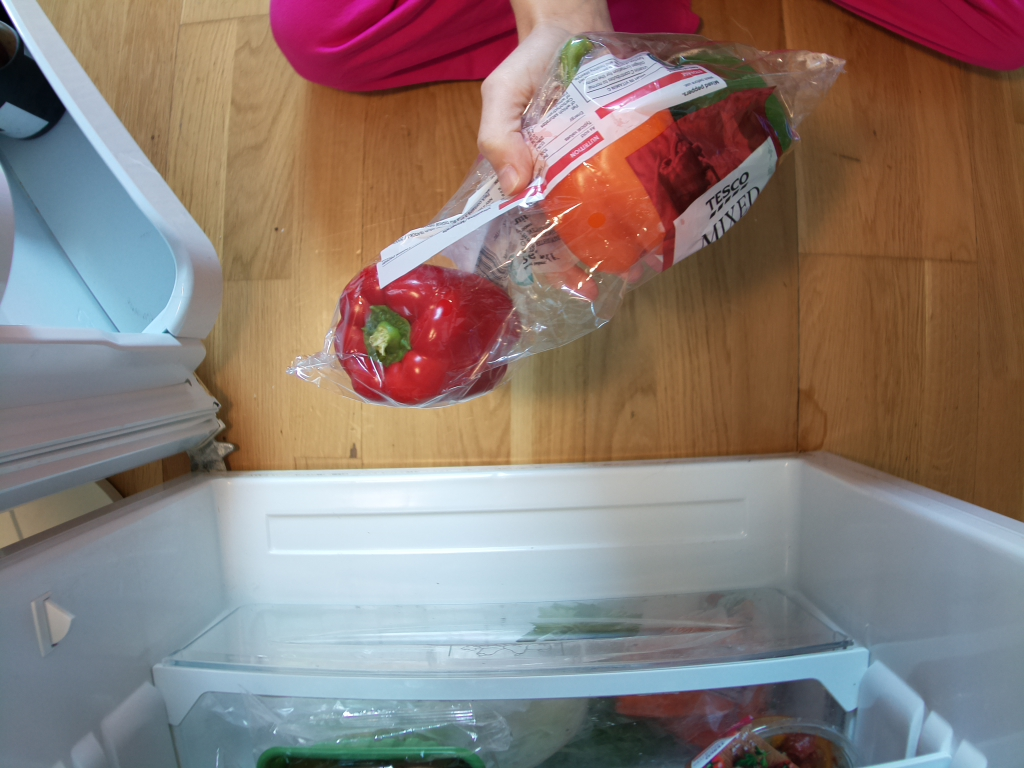pepper: (544, 36, 690, 278), (333, 261, 519, 407), (661, 53, 797, 165)
